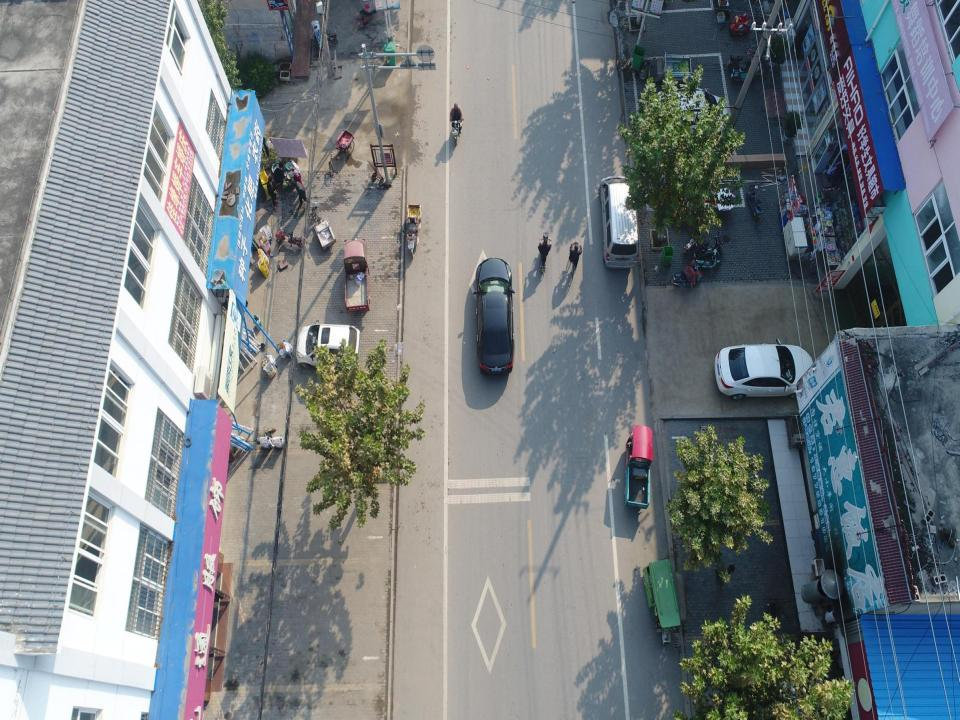car: (714, 337, 812, 401), (473, 258, 515, 375), (645, 87, 728, 133), (296, 318, 360, 369)
van: (599, 176, 638, 269)
